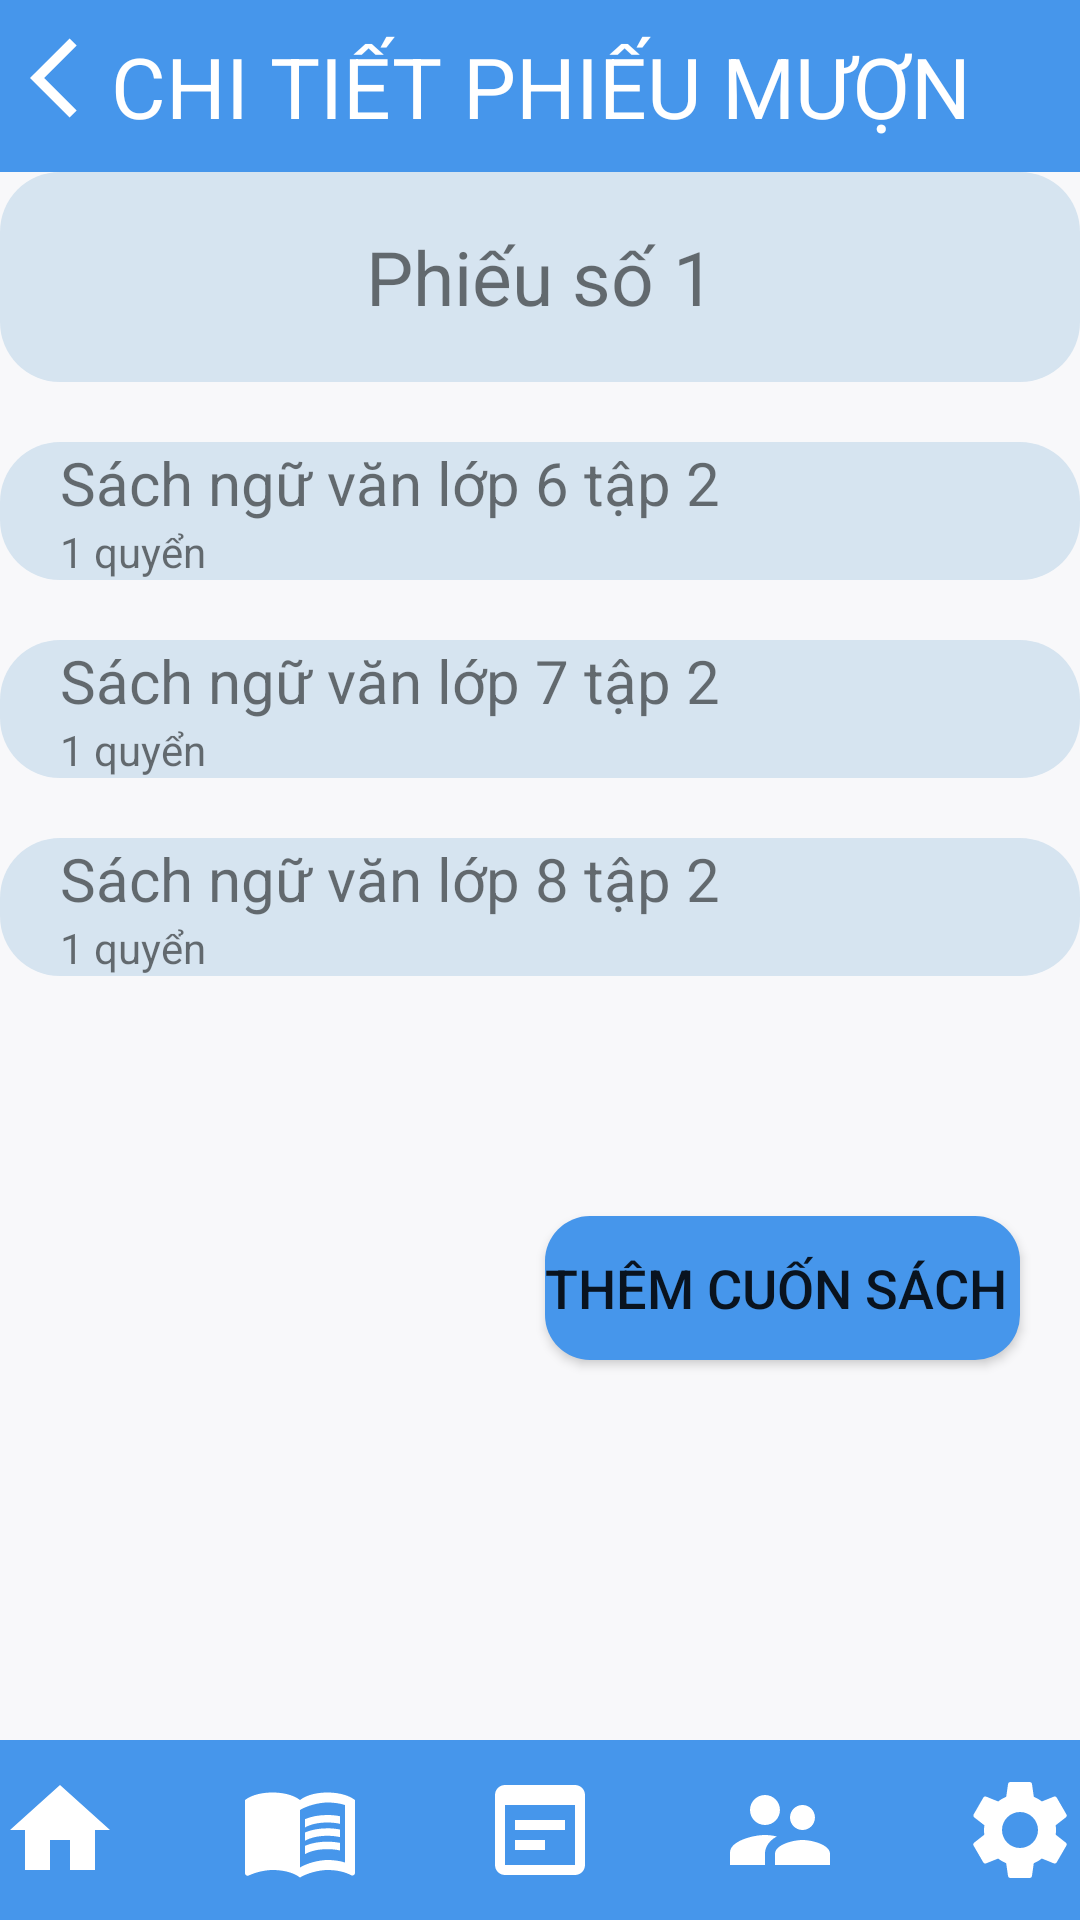

Locate icon controls on the screen. Image size 1080 x 1920, boxes as (x1, y1, x2, y2).
account: (730, 1795, 830, 1865)
backto: (30, 38, 77, 118)
book: (245, 1792, 355, 1878)
home: (10, 1785, 110, 1870)
setting: (973, 1782, 1067, 1878)
